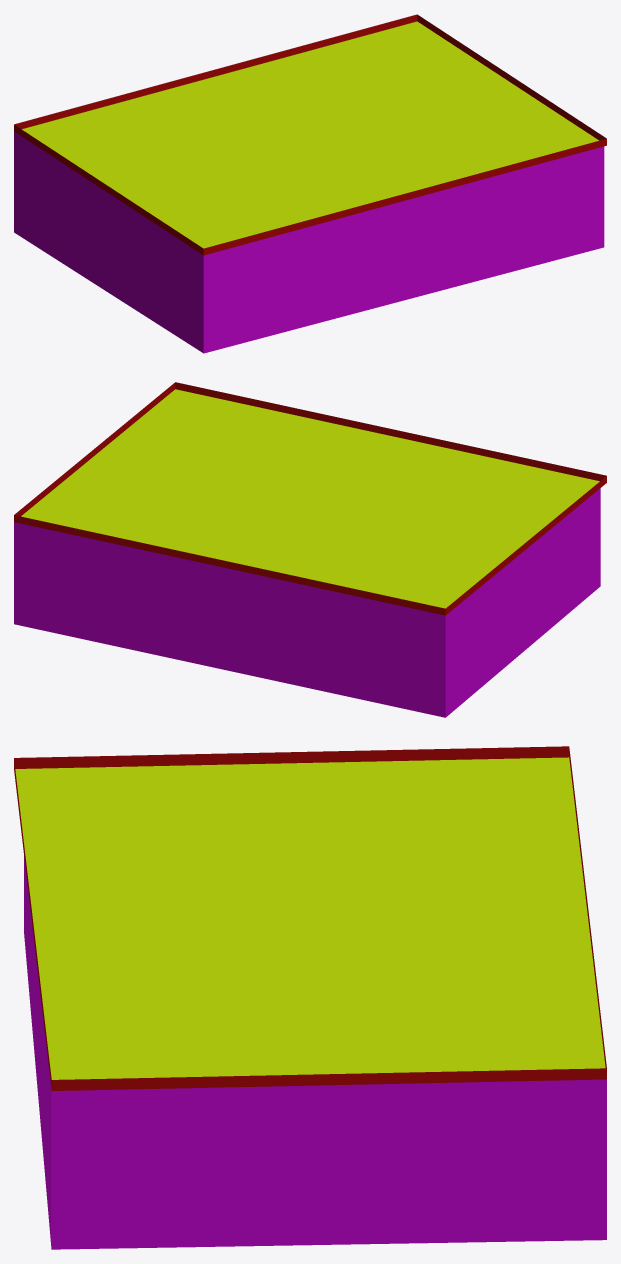
Rendered from bgj_166.glb.
The picture shows the model from 3 angles, top to bottom: view 1: azimuth 30°, elevation 25°; view 2: azimuth 150°, elevation 25°; view 3: azimuth 270°, elevation 25°; orthographic projection. The views are drawn at different scales.
Visible parts, largest first — view 1: bgj_166; view 2: bgj_166; view 3: bgj_166.
Part boxes in pixels (bbox=[...]): bgj_166: bbox=[14, 14, 606, 353]; bgj_166: bbox=[14, 382, 606, 717]; bgj_166: bbox=[14, 746, 606, 1249].
Size of the model in its own units: 22.51 by 5.4 by 16.91.
